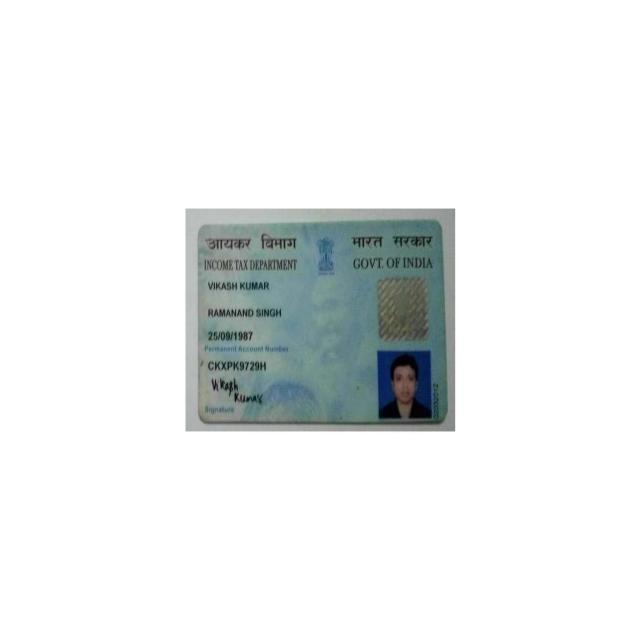pan_card: (199, 221, 448, 422)
